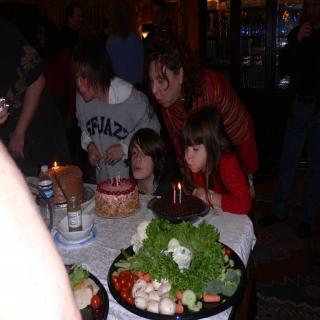Cake: (96, 178, 141, 216), (38, 165, 82, 203)
